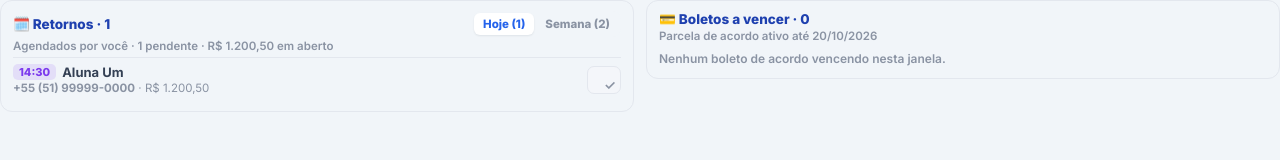
it: PainelMeuDia › abre em Hoje: o retorno de amanha nao aparece antes de pedir a semana
Expected: the number of elements with test id "meu-dia-retorno-item" is 1, [13,57,621,101]
Click the tab "Semana (2)" at (578, 24), box [536,13,619,35]
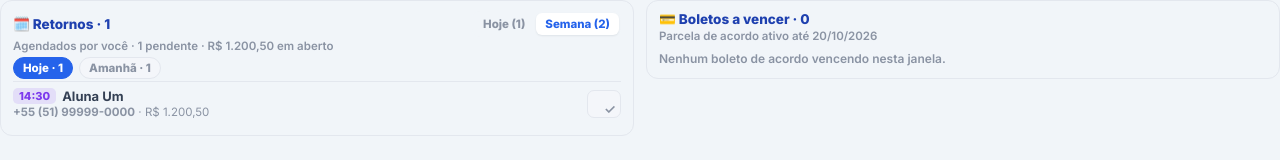
Click the tab with test id "meu-dia-chip-dia" showing "Amanhã · 1" at (120, 68), box [79,57,161,79]
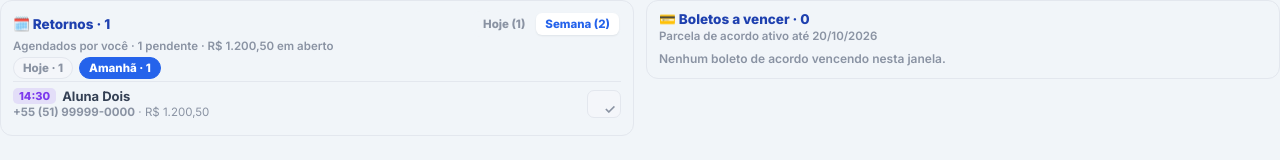
Expected: the button "Aluna Dois" is shown, [62,88,130,104]
